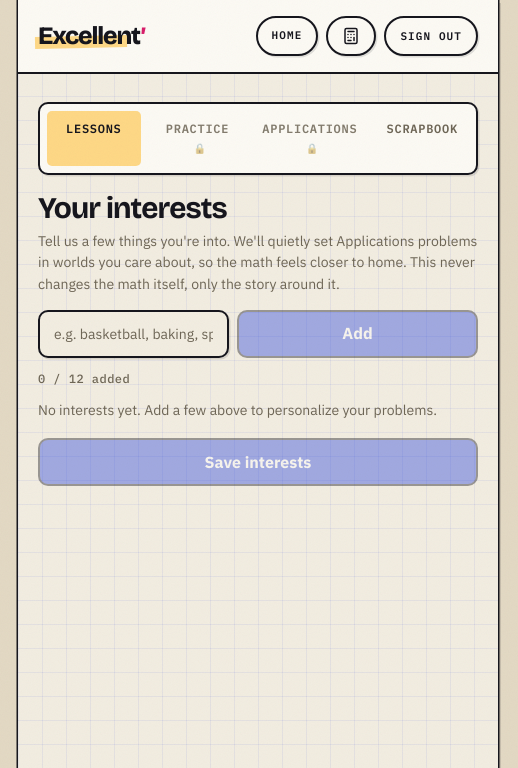
Test: InterestsPage › blocks an inappropriate interest and does not add it
Type "cocaine" into the field named "add an interest" at (134, 334), box [38,310,229,358]
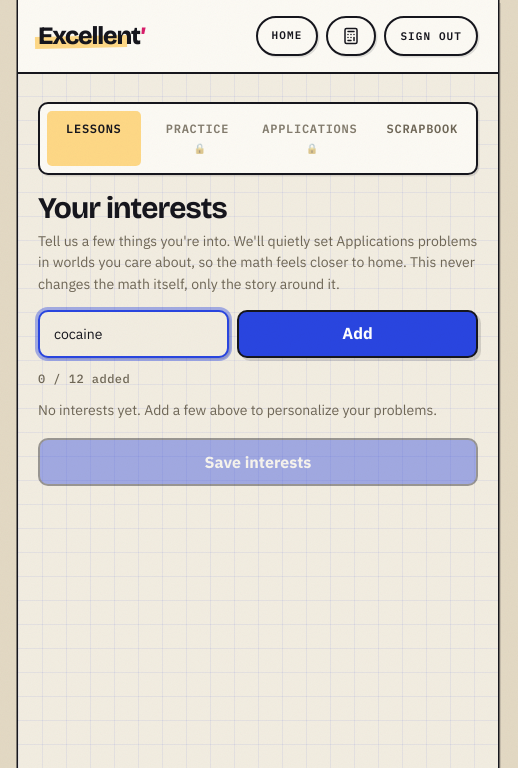
Click the button "Add" at (358, 334), box [237,310,478,358]
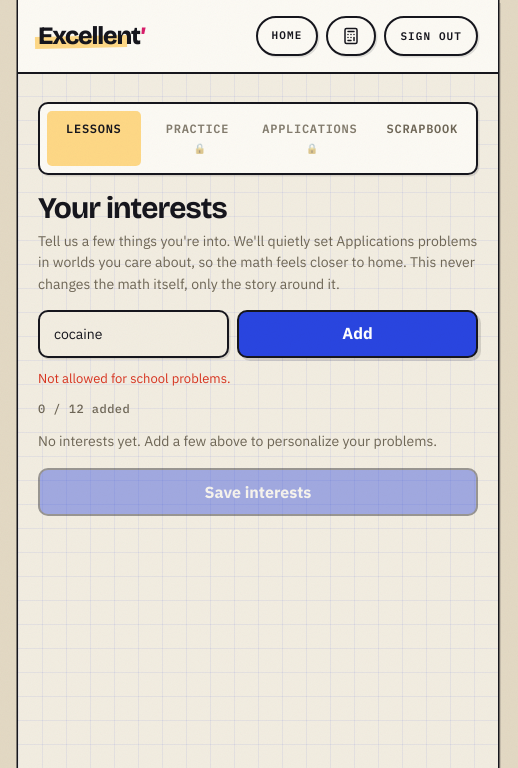
Check: the message shows "Not allowed for school problems", box [38,370,230,387]
